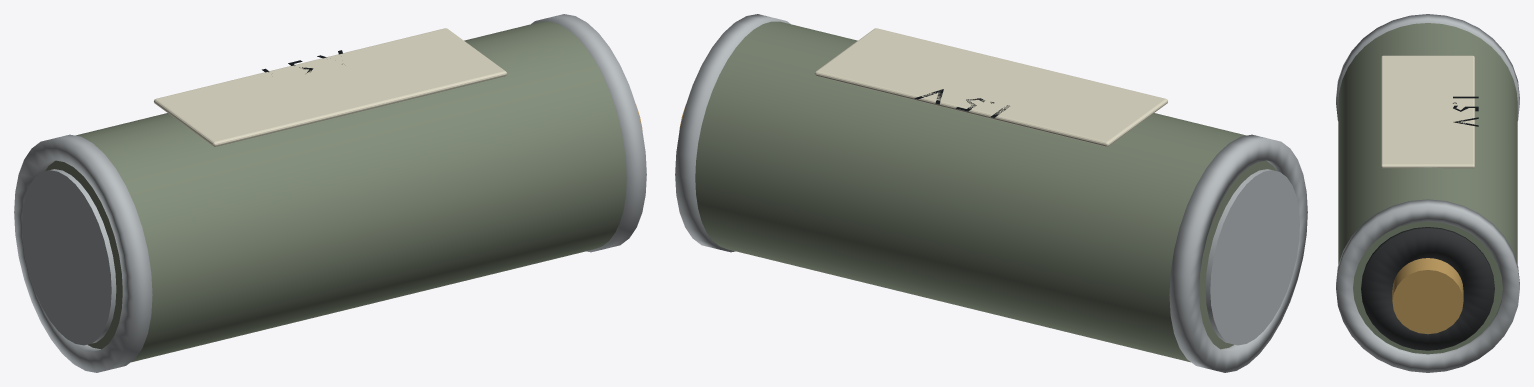
File: battery.glb
3 views of the same model, side by side, from view 1: azimuth 30°, elevation 25°; view 2: azimuth 150°, elevation 25°; view 3: azimuth 270°, elevation 25° (orthographic). The views are drawn at different scales.
Parts seen in each view (by area): view 1: battery; view 2: battery; view 3: battery.
Boxes of the visible parts, x1=… form: battery: x1=14, y1=14, x2=646, y2=372; battery: x1=675, y1=14, x2=1307, y2=372; battery: x1=1336, y1=14, x2=1519, y2=372.
Bounding box in the file's own units: 0.235 × 0.088 × 0.088.
